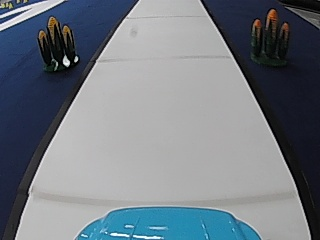corn: (249, 6, 291, 67), (36, 13, 80, 71)
